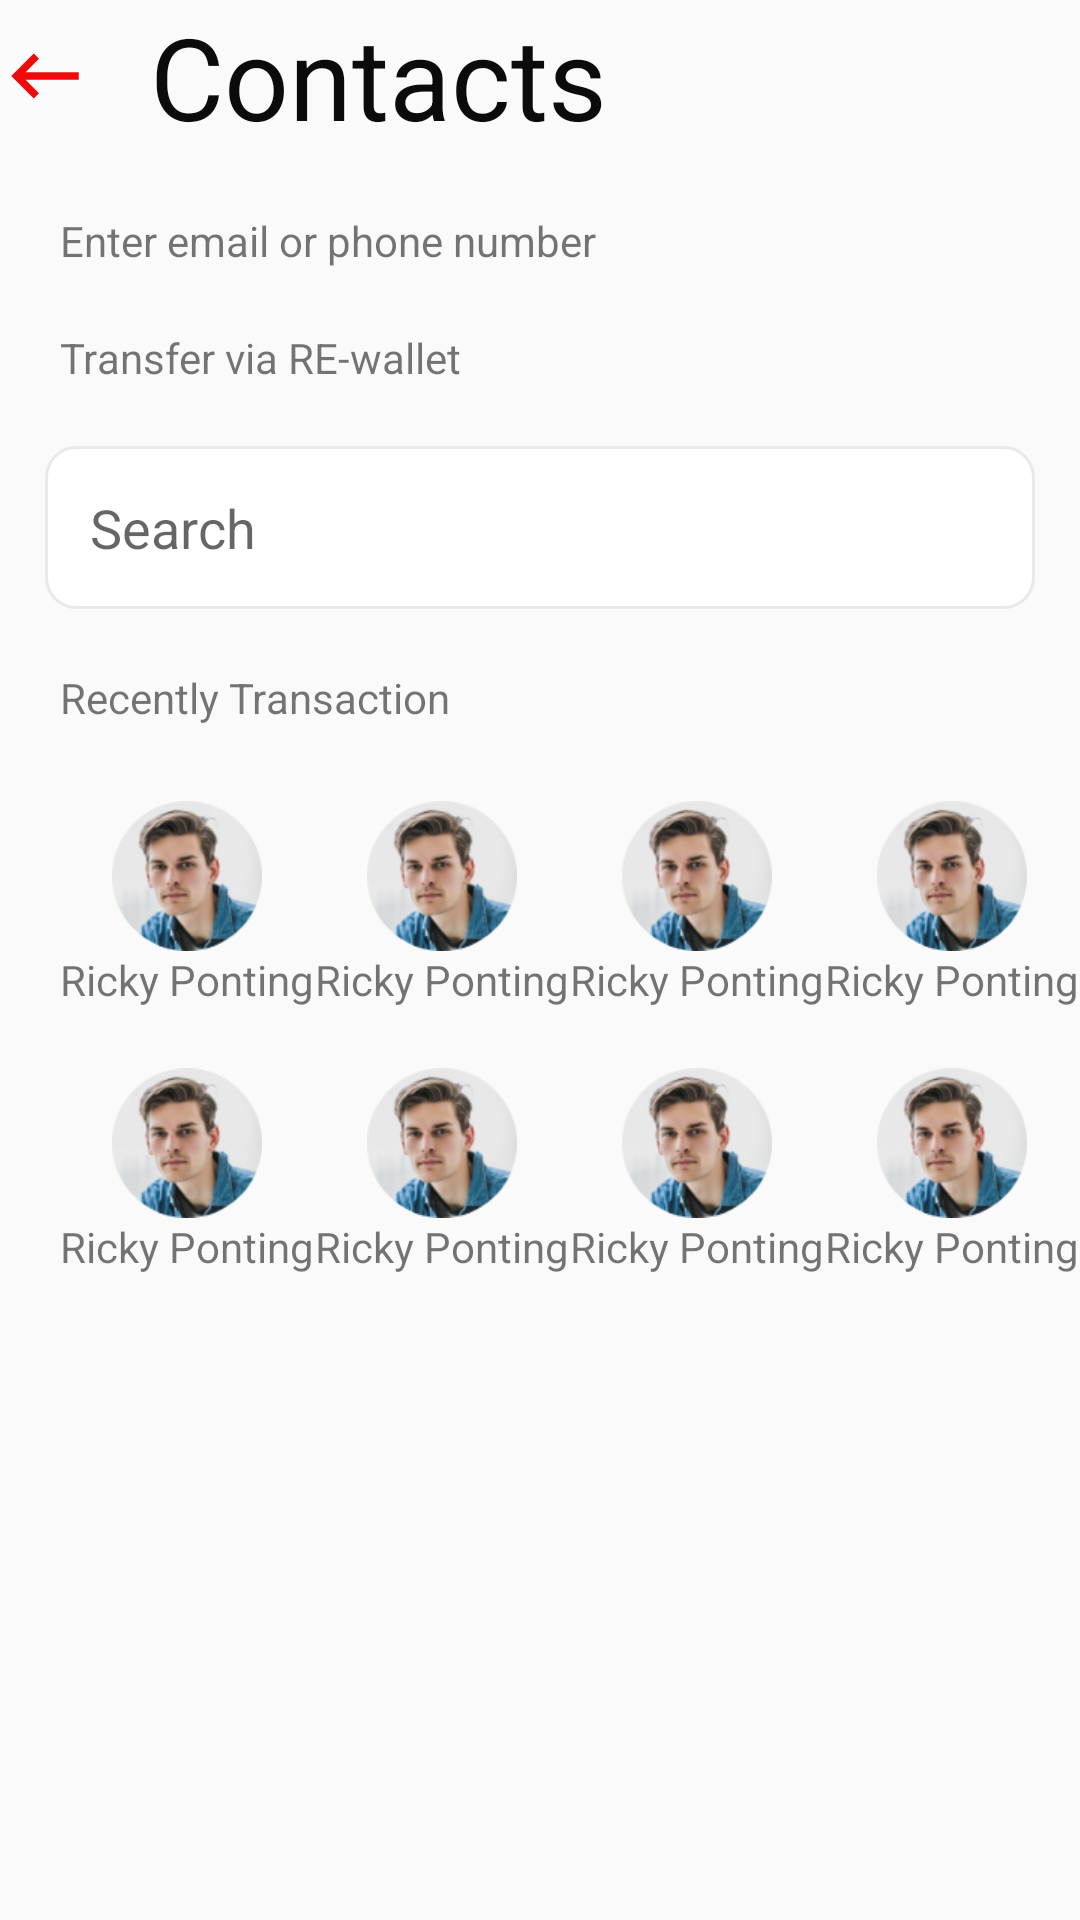

Icons on this 1080px×1920px Android screen, each with its box as (x1, y1, x2, y2):
back arrow: (11, 53, 79, 99)
